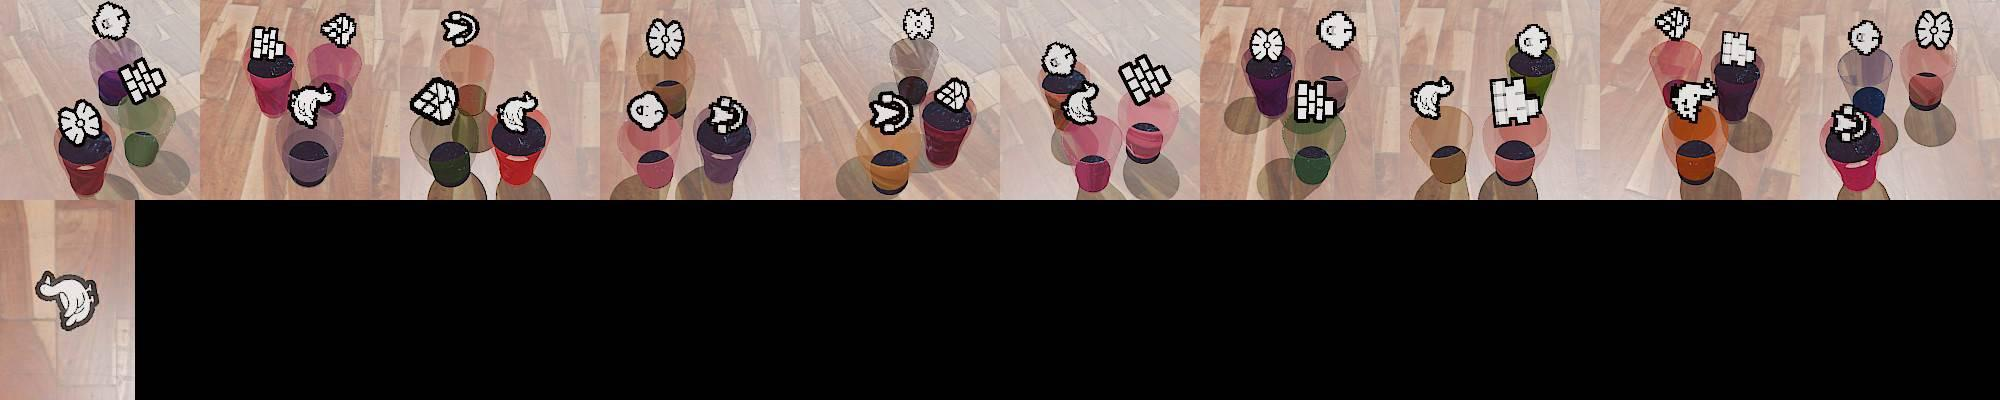icon: (34, 269, 99, 331), (1117, 52, 1172, 106), (1489, 75, 1541, 127), (408, 75, 459, 125), (117, 56, 168, 106), (57, 98, 105, 146), (1667, 78, 1717, 124), (494, 88, 541, 135), (287, 82, 335, 127), (869, 88, 913, 135), (1409, 74, 1454, 120), (1293, 78, 1338, 124), (626, 89, 668, 130), (705, 93, 746, 135), (1913, 9, 1954, 51), (645, 15, 685, 59), (1829, 102, 1870, 143), (91, 1, 131, 42), (1062, 82, 1099, 126), (1316, 10, 1356, 51), (1717, 29, 1758, 68), (440, 10, 481, 48), (932, 75, 971, 113), (250, 24, 288, 62), (1249, 27, 1286, 64), (1041, 39, 1078, 76), (320, 13, 357, 50), (1515, 23, 1551, 59), (1654, 6, 1691, 41), (1848, 20, 1884, 55), (902, 6, 935, 42)
